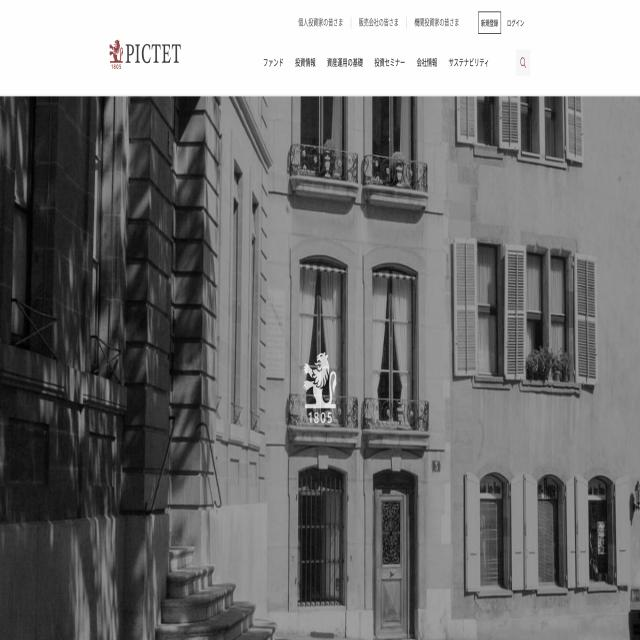Logo: (101, 28, 190, 77)
Navigation: (262, 45, 544, 80)
